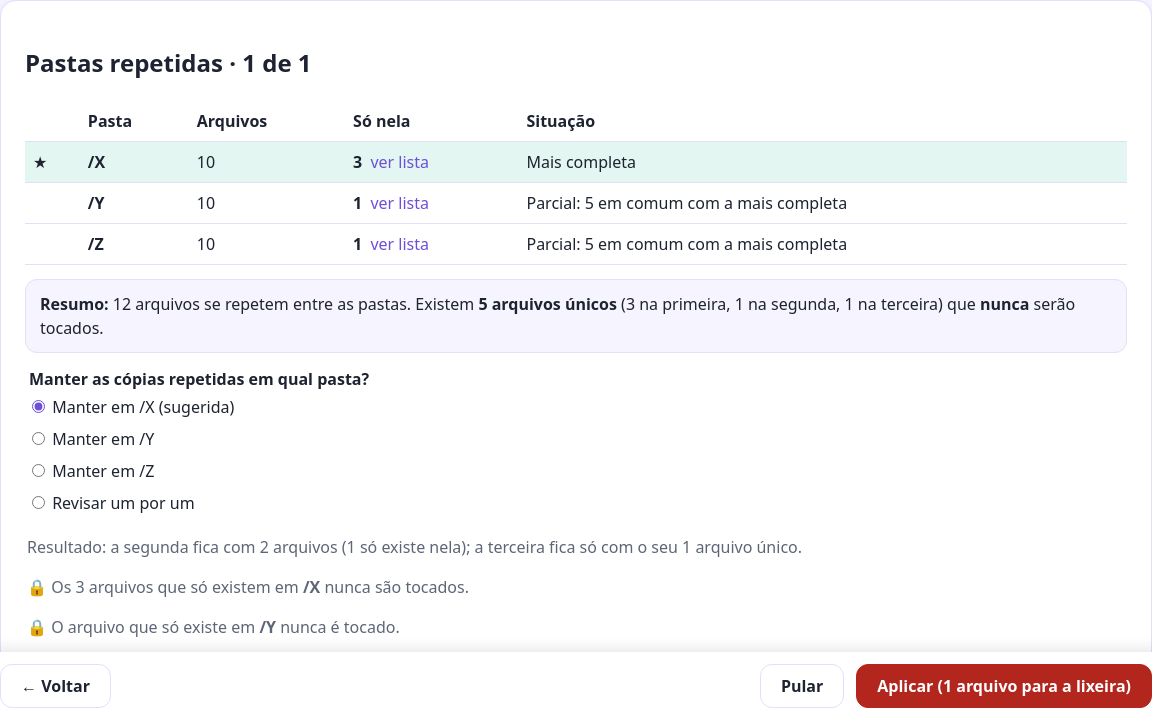
Test: resultado: singular de "só existe nela" e pasta só com os seus únicos
Expected: the text "Resultado: a segunda fica com 2 arquivos (1 só existe nela); a terceira fica só com o seu 1 arquivo único." is shown, left=27, top=536, right=802, bottom=558
Step 1. Click the button "Aplicar (1 arquivo para a lixeira)" → (1004, 686), box left=856, top=664, right=1151, bottom=708
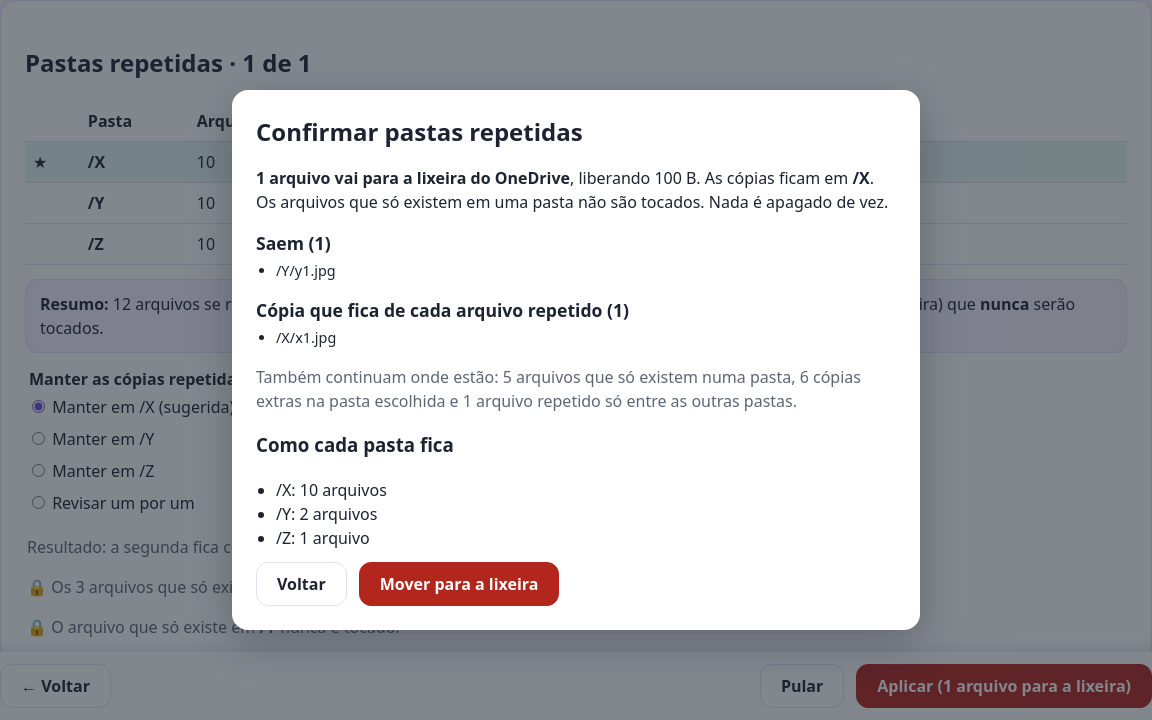
Result: the dialog shows "Também continuam onde estão: 5 arquivos que só existem numa pasta, 6 cópias extras na pasta escolhida e 1 arquivo repetido só entre as outras pastas." at left=232, top=90, right=920, bottom=630
